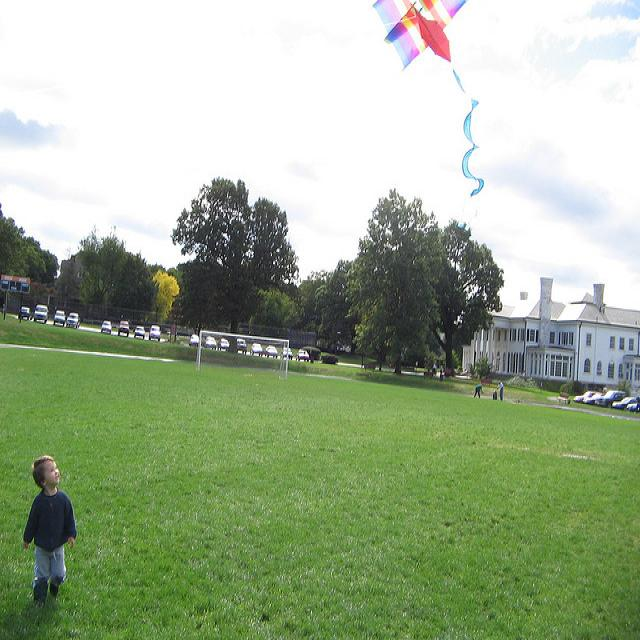Vehicle: (18, 305, 602, 408), (594, 390, 628, 408), (611, 396, 640, 411), (572, 390, 601, 403), (33, 305, 49, 323), (34, 305, 49, 323), (149, 325, 161, 342), (250, 344, 264, 358), (264, 346, 279, 359), (236, 338, 248, 354), (54, 310, 65, 327), (296, 349, 309, 362), (204, 336, 216, 350), (218, 338, 229, 351), (101, 321, 112, 334), (283, 348, 293, 360)
